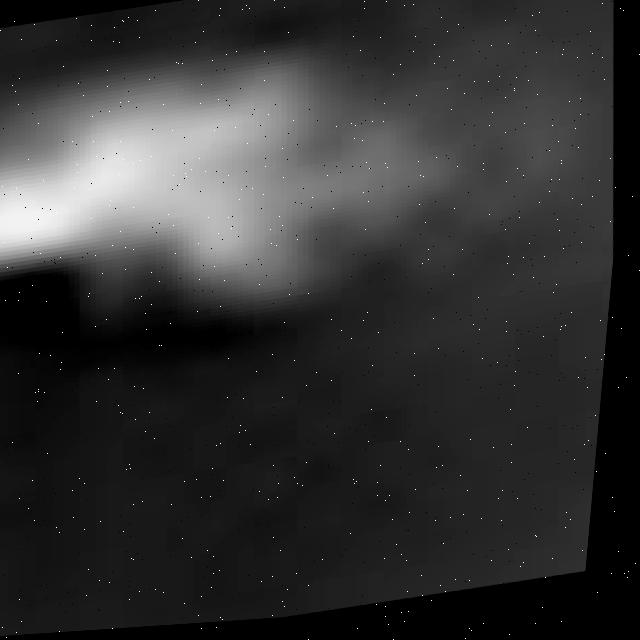person: (1, 25, 496, 341)
